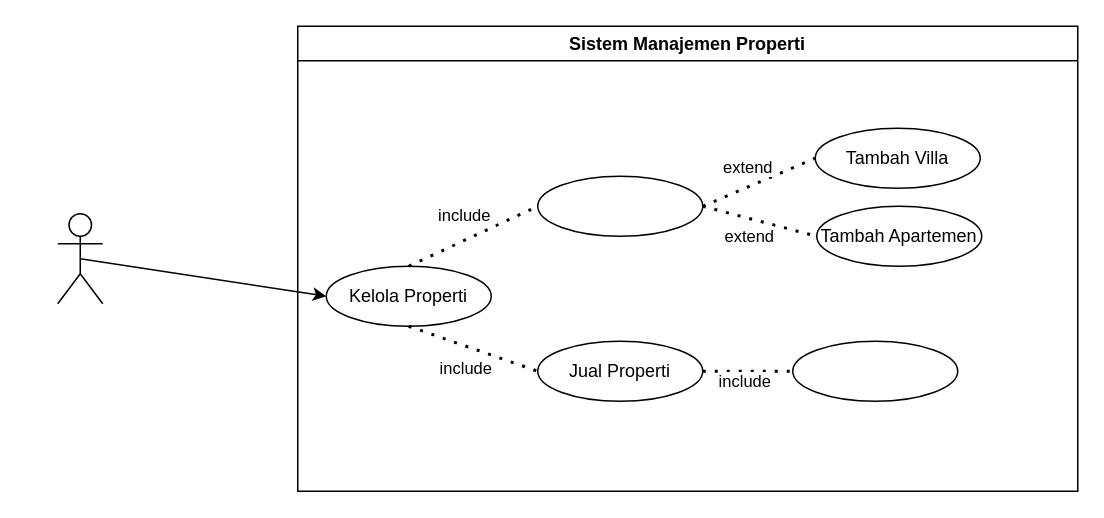
This 1104x518 diagram has some shape labels left out. Each missing label, with the centre of its shape:
"Agen Properti" goes at (79,258).
"Hapus Dari Daftar" goes at (874,370).
"Tambah Properti" goes at (619,205).
